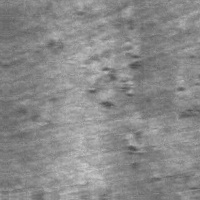rolled-in_scale: (85, 40, 141, 112), (123, 133, 171, 187)
